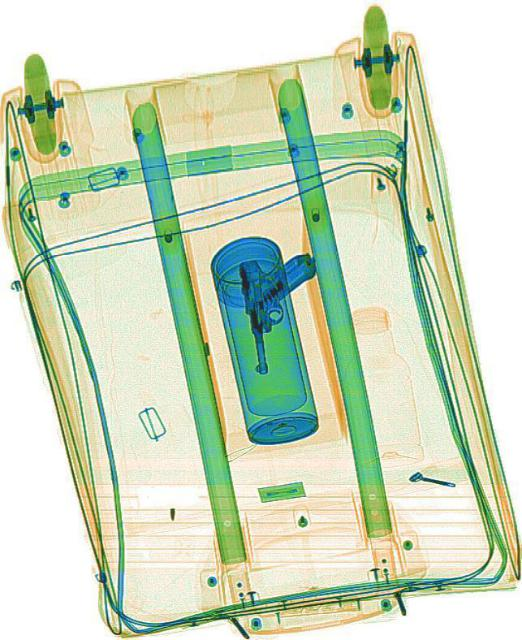Gun: (236, 249, 326, 375)
